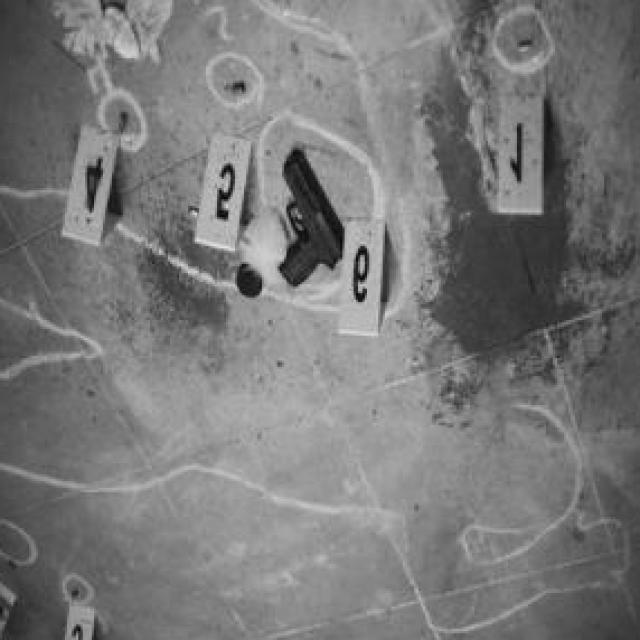pistol: (275, 141, 345, 293)
